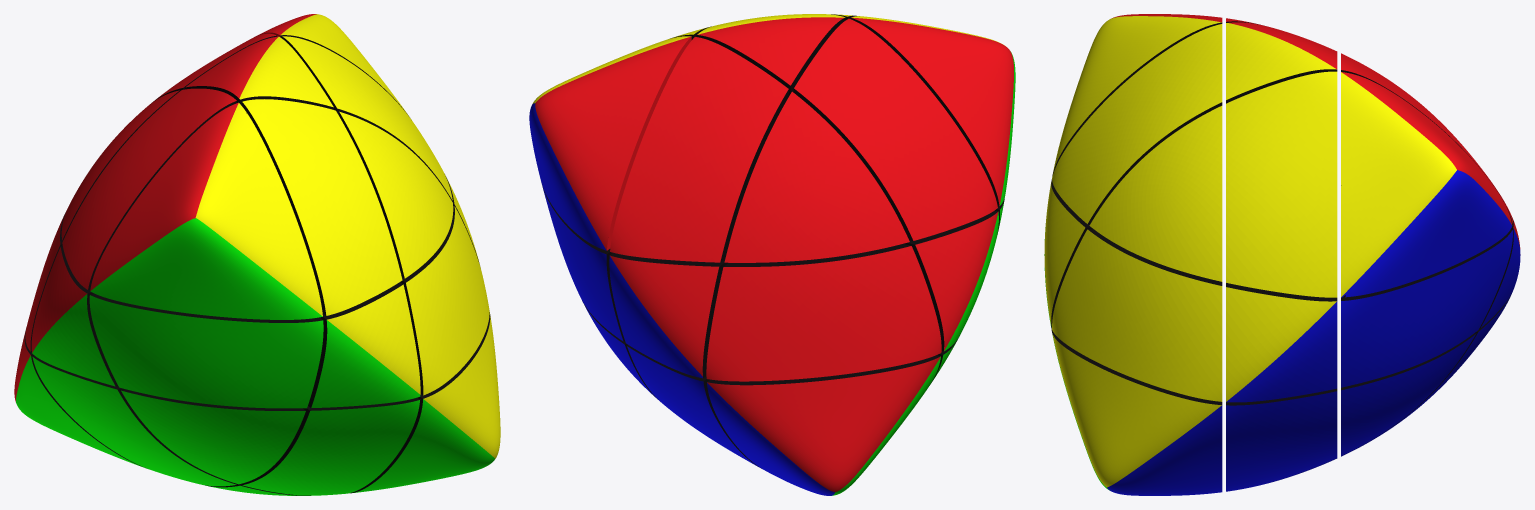
File: mastermorphix.glb
3 views of the same model, side by side, from view 1: azimuth 30°, elevation 25°; view 2: azimuth 150°, elevation 25°; view 3: azimuth 270°, elevation 25° (orthographic).
Parts seen in each view (by area): view 1: cubie_-1_-1_1, cubie_-1_-1_0, cubie_0_-1_1, cubie_0_-1_-1, cubie_1_-1_-1, cubie_0_-1_0, cubie_-1_0_1, cubie_-1_-1_-1, cubie_1_-1_0, cubie_1_-1_1, cubie_-1_0_-1, cubie_-1_0_0 (+7 smaller); view 2: cubie_-1_1_0, cubie_0_1_1, cubie_-1_0_1, cubie_-1_1_-1, cubie_-1_1_1, cubie_1_1_1, cubie_-1_-1_1, cubie_0_1_0, cubie_-1_0_0, cubie_0_0_1, cubie_0_1_-1, cubie_1_1_0 (+1 smaller); view 3: cubie_1_1_1, cubie_1_0_1, cubie_1_-1_0, cubie_1_-1_-1, cubie_0_-1_1, cubie_1_-1_1, cubie_1_1_0, cubie_1_0_0, cubie_1_0_-1, cubie_-1_-1_1, cubie_1_1_-1, cubie_0_0_1 (+4 smaller).
Boxes of the visible parts, left/top/right/bottom form: cubie_-1_-1_1: left=90, top=102, right=322, bottom=319; cubie_-1_-1_0: left=89, top=293, right=323, bottom=408; cubie_0_-1_1: left=242, top=99, right=402, bottom=315; cubie_0_-1_-1: left=242, top=397, right=419, bottom=495; cubie_1_-1_-1: left=350, top=312, right=500, bottom=493; cubie_0_-1_0: left=308, top=282, right=420, bottom=408; cubie_-1_0_1: left=62, top=88, right=236, bottom=289; cubie_-1_-1_-1: left=121, top=389, right=305, bottom=484; cubie_1_-1_0: left=400, top=206, right=489, bottom=395; cubie_1_-1_1: left=339, top=111, right=453, bottom=278; cubie_-1_0_-1: left=32, top=356, right=236, bottom=486; cubie_-1_0_0: left=31, top=246, right=117, bottom=386; cubie_-1_1_0: left=706, top=243, right=941, bottom=381; cubie_0_1_1: left=610, top=37, right=788, bottom=262; cubie_-1_0_1: left=794, top=18, right=997, bottom=240; cubie_-1_1_-1: left=707, top=355, right=940, bottom=495; cubie_-1_1_1: left=724, top=91, right=909, bottom=262; cubie_1_1_1: left=529, top=36, right=691, bottom=250; cubie_-1_-1_1: left=851, top=16, right=1015, bottom=206; cubie_0_1_0: left=609, top=253, right=727, bottom=378; cubie_-1_0_0: left=904, top=210, right=998, bottom=351; cubie_0_0_1: left=697, top=14, right=845, bottom=95; cubie_0_1_-1: left=627, top=345, right=761, bottom=468; cubie_1_1_0: left=542, top=185, right=624, bottom=341; cubie_1_1_1: left=1341, top=72, right=1512, bottom=297; cubie_1_0_1: left=1226, top=71, right=1337, bottom=297; cubie_1_-1_0: left=1052, top=229, right=1222, bottom=401; cubie_1_-1_-1: left=1052, top=333, right=1222, bottom=495; cubie_0_-1_1: left=1052, top=24, right=1222, bottom=224; cubie_1_-1_1: left=1089, top=106, right=1222, bottom=281; cubie_1_1_0: left=1341, top=229, right=1512, bottom=387; cubie_1_0_0: left=1226, top=283, right=1337, bottom=402; cubie_1_0_-1: left=1226, top=388, right=1337, bottom=491; cubie_-1_-1_1: left=1052, top=14, right=1222, bottom=175; cubie_1_1_-1: left=1341, top=333, right=1476, bottom=455; cubie_0_0_1: left=1226, top=22, right=1337, bottom=103.
Bounding box in the file's own units: 12.63 × 12.63 × 12.63.
